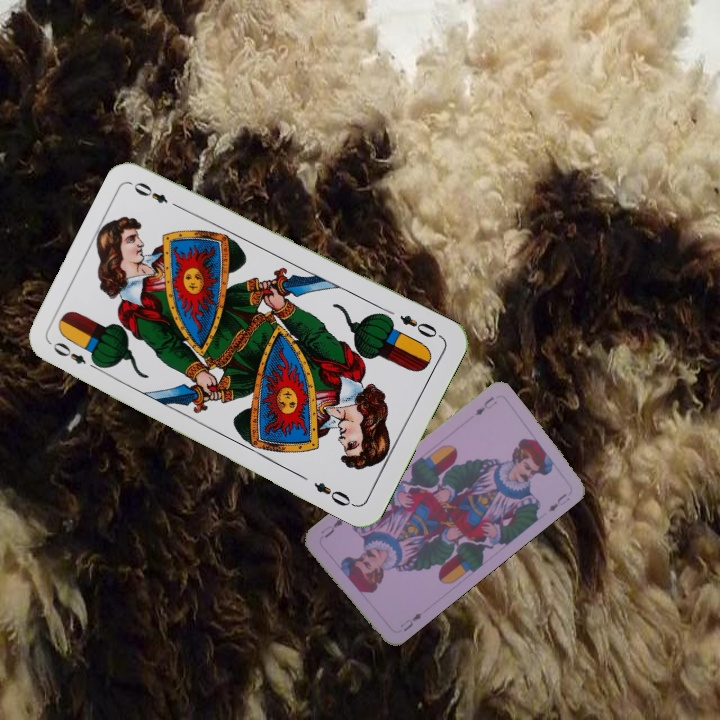EO: (48, 338, 103, 373), (395, 311, 445, 341)
EU: (471, 393, 500, 418), (396, 609, 424, 634)
